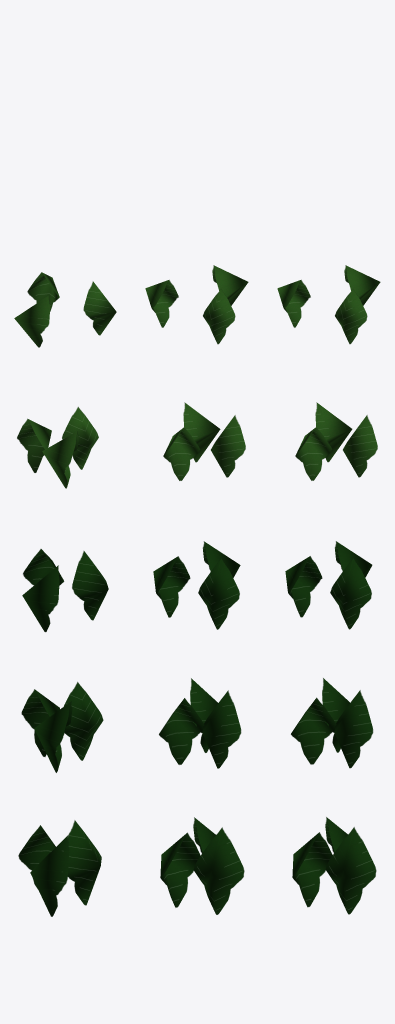
File: Herb_Mugwort.glb
3 renders of one model, left to right at view 1: azimuth 90°, elevation 25°; view 2: azimuth 150°, elevation 25°; view 3: azimuth 270°, elevation 25°, orthographic.
Visible parts, largest first — view 1: Herb_Mugwort; view 2: Herb_Mugwort; view 3: Herb_Mugwort.
Boxes of the visible parts, x1,y1,x2,y2 form: Herb_Mugwort: (14,272,116,916); Herb_Mugwort: (145,265,248,914); Herb_Mugwort: (277,265,380,914).
Size of the model in its own units: 0.1017 by 1 by 0.0952.
1 material, 1 textured.
